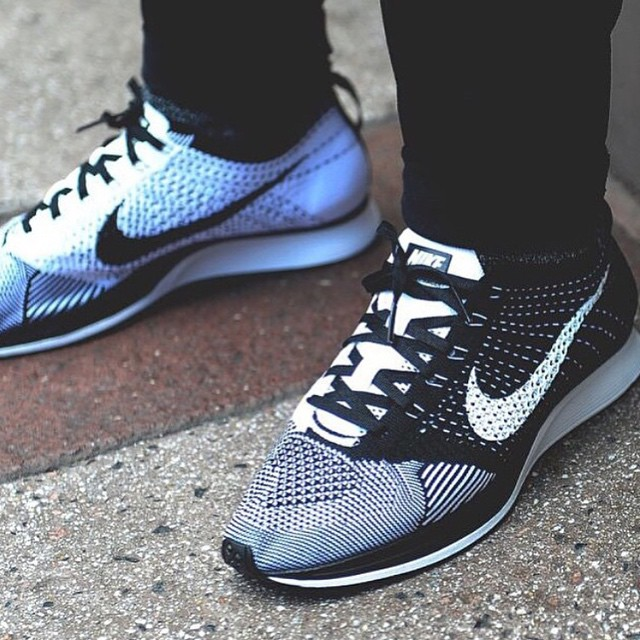sneaker: (193, 188, 640, 627), (1, 60, 414, 374)
